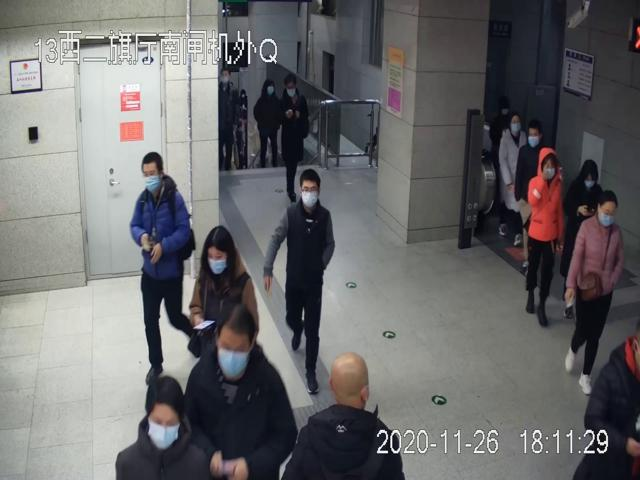person: (183, 303, 299, 480), (265, 170, 335, 396), (130, 151, 195, 381), (567, 190, 626, 396), (190, 226, 264, 348), (526, 148, 568, 328), (278, 75, 308, 202)
